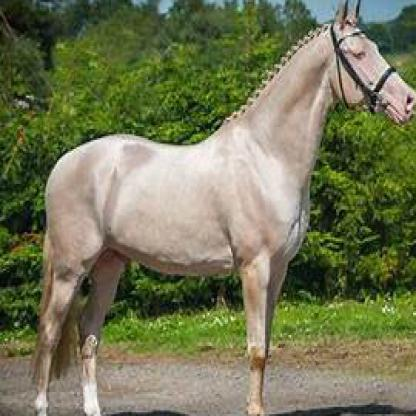horse: (29, 0, 414, 414)
